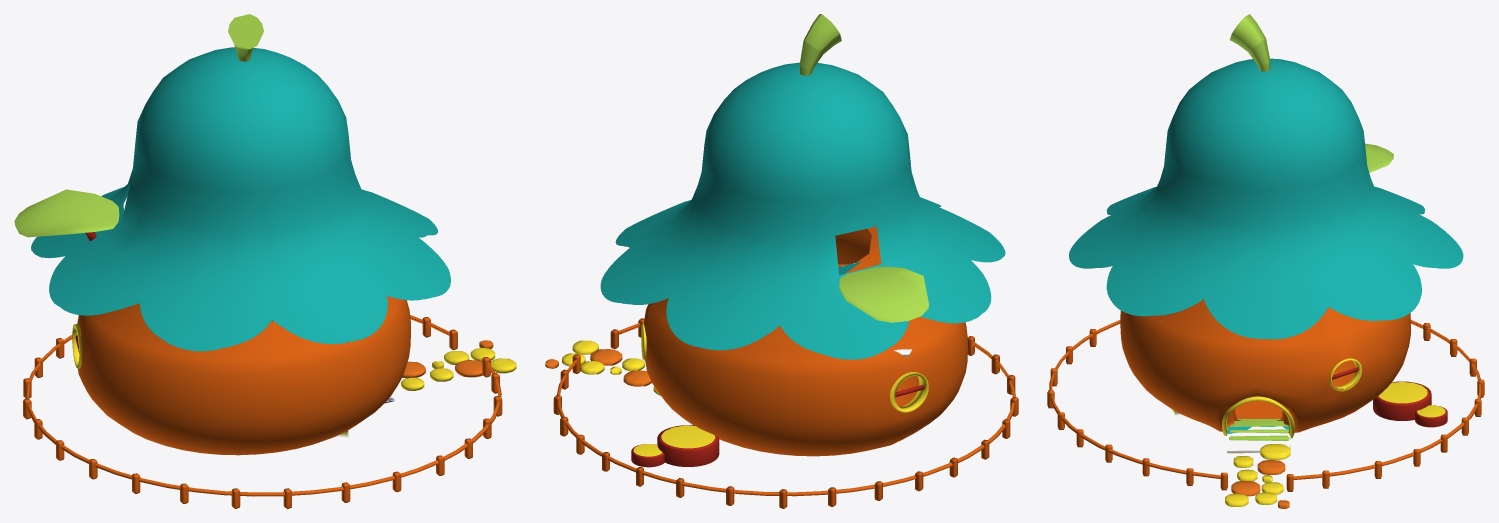
Rendered from HouseWoodleLow.fbx.
The picture shows the model from 3 angles, left to right: view 1: azimuth 30°, elevation 25°; view 2: azimuth 150°, elevation 25°; view 3: azimuth 270°, elevation 25°; orthographic projection. The views are drawn at different scales.
Visible parts, largest first — view 1: House40; view 2: House40; view 3: House40.
Boxes of the visible parts, x1,y1,x2,y2 form: House40: (14,14,516,508); House40: (545,14,1018,508); House40: (1047,14,1484,508).
Size of the model in its own units: 13.11 by 11.58 by 12.19.
